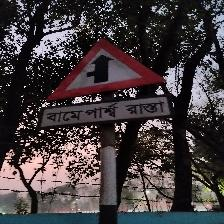Side-road-left: (39, 37, 173, 131)
